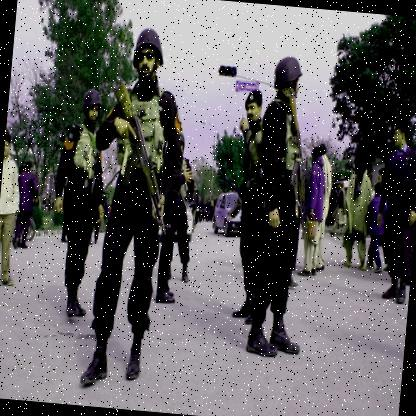rifle: (96, 83, 187, 243), (270, 87, 324, 232)
